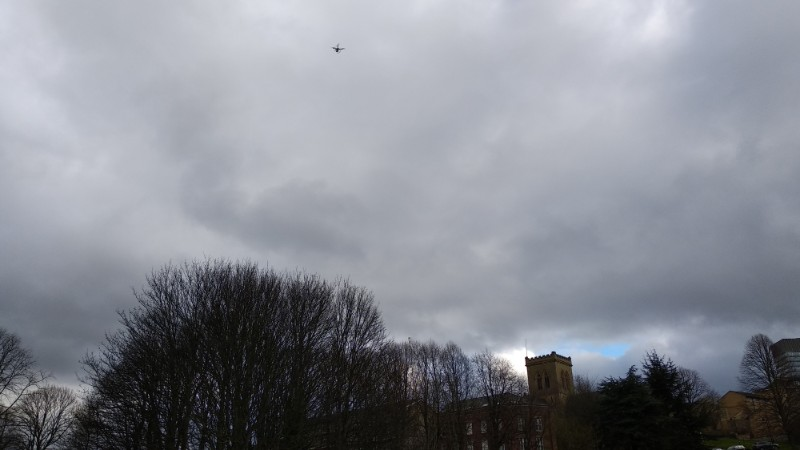drone: (331, 43, 345, 53)
